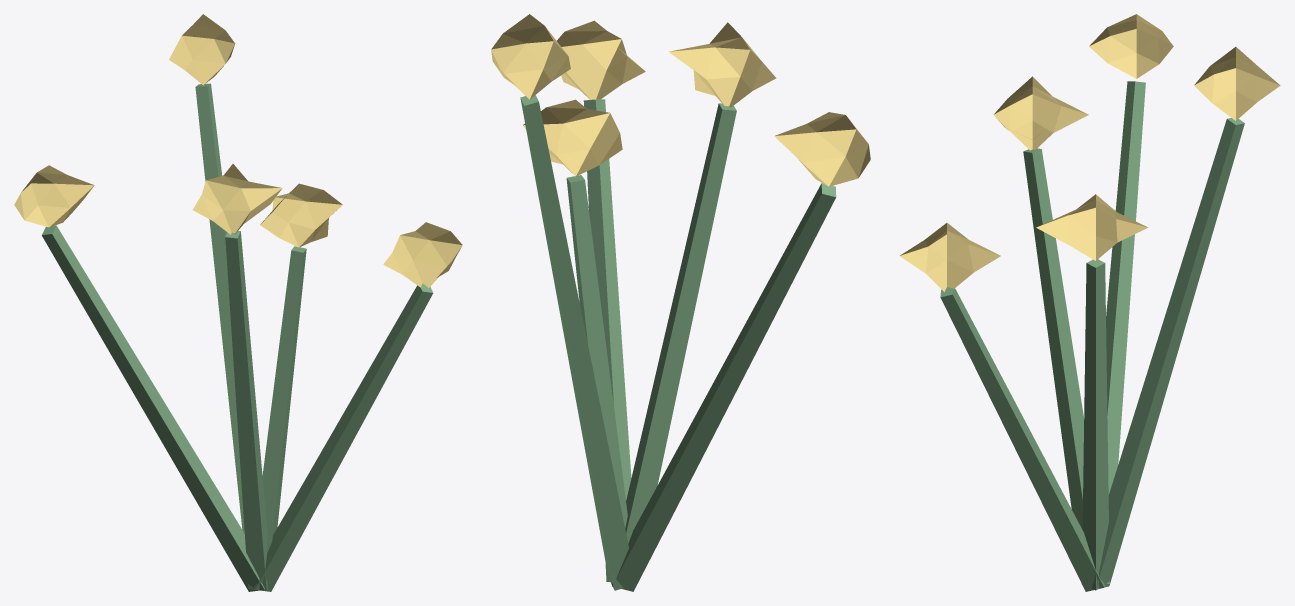
File: flower_v23.glb
The picture shows the model from 3 angles, left to right: view 1: azimuth 30°, elevation 25°; view 2: azimuth 150°, elevation 25°; view 3: azimuth 270°, elevation 25°; orthographic projection. The views are drawn at different scales.
Visible parts, largest first — view 1: lod0; view 2: lod0; view 3: lod0.
Boxes of the visible parts, x1,y1,x2,y2 form: lod0: (14, 14, 462, 591); lod0: (491, 14, 870, 591); lod0: (900, 14, 1280, 591).
Size of what is drawn, in the model's own units: 0.552 by 0.7735 by 0.4882.
